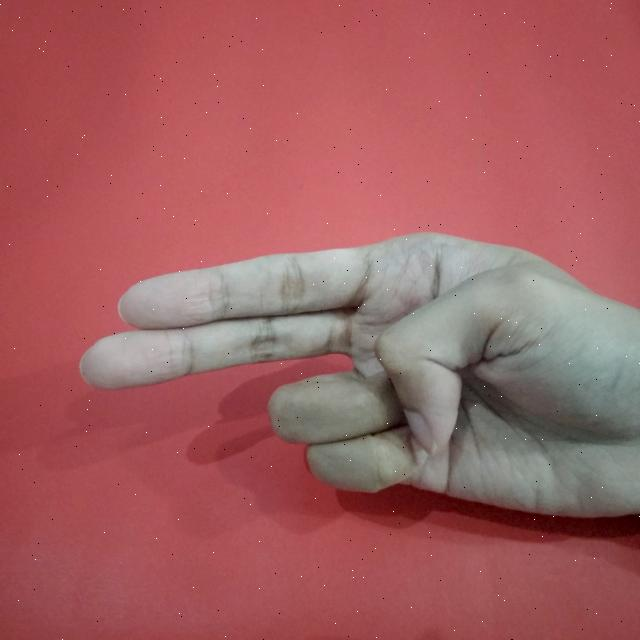H: (65, 225, 640, 531)
